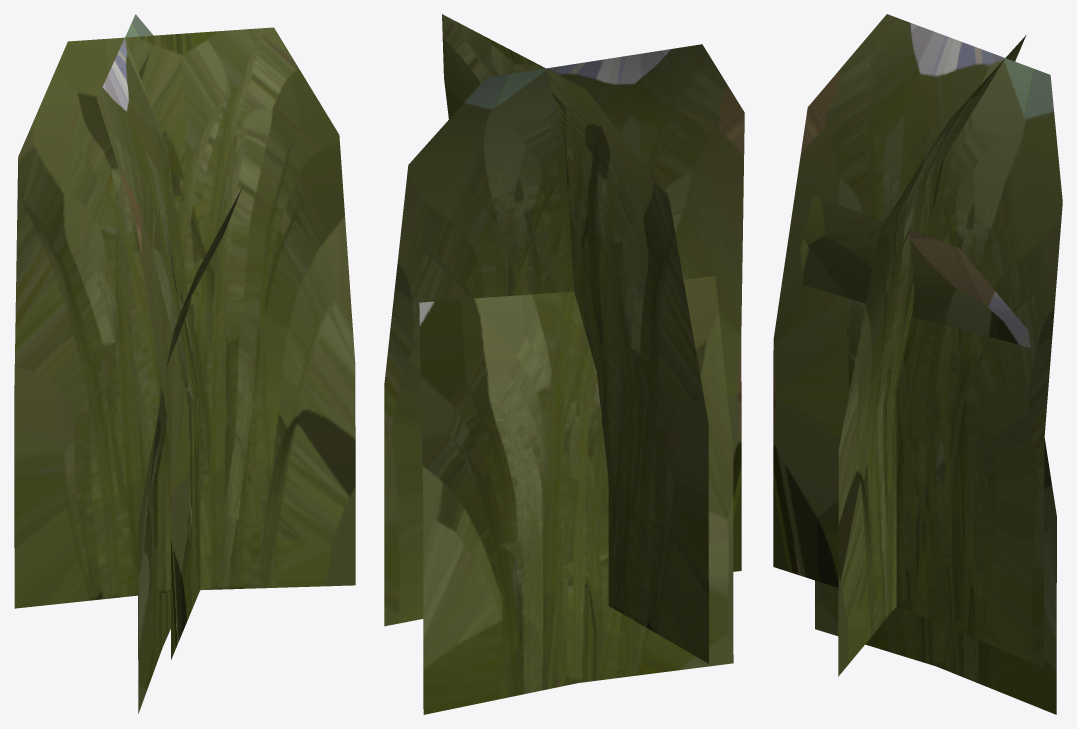
File: GrassTallA_root_afsTREE_xlp.fbx
The picture shows the model from 3 angles, left to right: view 1: azimuth 30°, elevation 25°; view 2: azimuth 150°, elevation 25°; view 3: azimuth 270°, elevation 25°; orthographic projection. The views are drawn at different scales.
Visible parts, largest first — view 1: GrassA01_leaf_xt02_xw05; view 2: GrassA01_leaf_xt02_xw05; view 3: GrassA01_leaf_xt02_xw05.
Boxes of the visible parts, bbox=[...] form: GrassA01_leaf_xt02_xw05: bbox=[14, 14, 355, 713]; GrassA01_leaf_xt02_xw05: bbox=[384, 14, 744, 714]; GrassA01_leaf_xt02_xw05: bbox=[773, 14, 1062, 714].
Size of the model in its own units: 0.3297 by 0.6604 by 0.2823.
